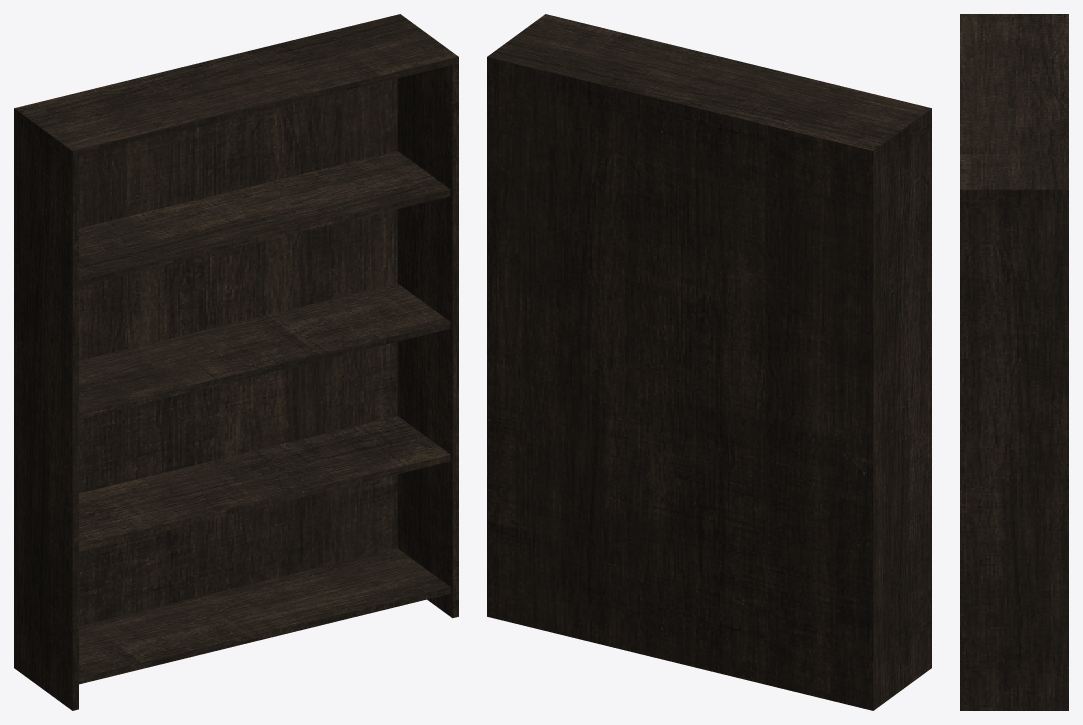
The model's file is shelf_mp_5_2.glb.
3 renders of one model, left to right at view 1: azimuth 30°, elevation 25°; view 2: azimuth 150°, elevation 25°; view 3: azimuth 270°, elevation 25°, orthographic. The views are drawn at different scales.
Visible parts, largest first — view 1: shelf_mp_5_2; view 2: shelf_mp_5_2; view 3: shelf_mp_5_2.
Boxes of the visible parts, x1,y1,x2,y2 form: shelf_mp_5_2: (14, 14, 458, 710); shelf_mp_5_2: (487, 14, 931, 710); shelf_mp_5_2: (960, 14, 1068, 710).
Size of the model in its own units: 1.22 by 1.69 by 0.32.
Materials: 1 (1 with a texture image).
